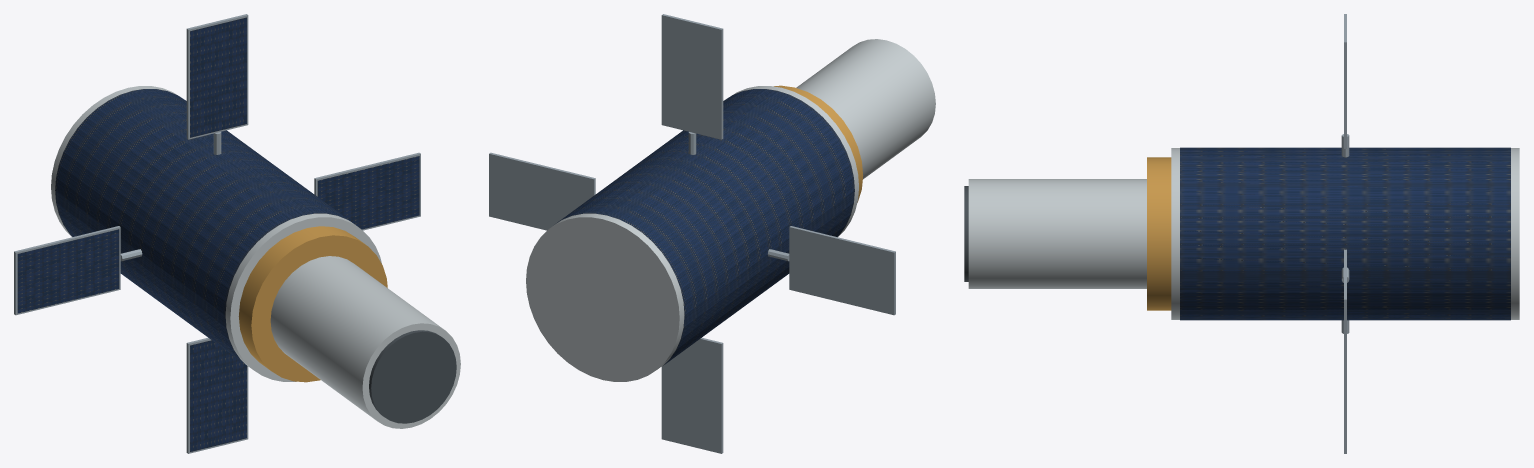
Rendered from ref-dsp-4630.glb.
3 views of the same model, side by side, from view 1: azimuth 30°, elevation 25°; view 2: azimuth 150°, elevation 25°; view 3: azimuth 270°, elevation 25° (orthographic). The views are drawn at different scales.
Visible parts, largest first — view 1: Body-mounted solar cells, Solar cell panel (×4), Optical instrument housing, Despun equipment deck, Telescope aperture, Solar drum core, Radial paddle frame (×4); view 2: Body-mounted solar cells, Radial paddle frame (×4), Solar drum core, Optical instrument housing, Despun equipment deck; view 3: Body-mounted solar cells, Optical instrument housing, Despun equipment deck, Solar drum core.
Part boxes in pixels (left/top/right/bottom): Body-mounted solar cells: left=55, top=89, right=353, bottom=366; Solar cell panel (×4): left=17, top=17, right=419, bottom=451; Optical instrument housing: left=270, top=256, right=460, bottom=428; Despun equipment deck: left=238, top=226, right=387, bottom=382; Telescope aperture: left=369, top=330, right=456, bottom=423; Solar drum core: left=51, top=86, right=381, bottom=381; Radial paddle frame (×4): left=14, top=14, right=420, bottom=453; Body-mounted solar cells: left=556, top=89, right=854, bottom=365; Radial paddle frame (×4): left=489, top=14, right=895, bottom=453; Solar drum core: left=526, top=86, right=858, bottom=381; Optical instrument housing: left=796, top=39, right=935, bottom=179; Despun equipment deck: left=774, top=85, right=863, bottom=202; Body-mounted solar cells: left=1180, top=147, right=1510, bottom=320; Optical instrument housing: left=968, top=179, right=1146, bottom=288; Despun equipment deck: left=1147, top=157, right=1171, bottom=310; Solar drum core: left=1171, top=148, right=1519, bottom=319.
Bounding box in the file's own units: 7.38 × 7.38 × 9.02.
5 materials, 1 textured.
